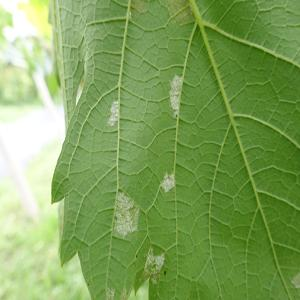Folha: (49, 0, 299, 299)
Fungo: (112, 190, 140, 238), (143, 245, 164, 284), (168, 72, 182, 118), (107, 100, 119, 126), (160, 171, 174, 193)
